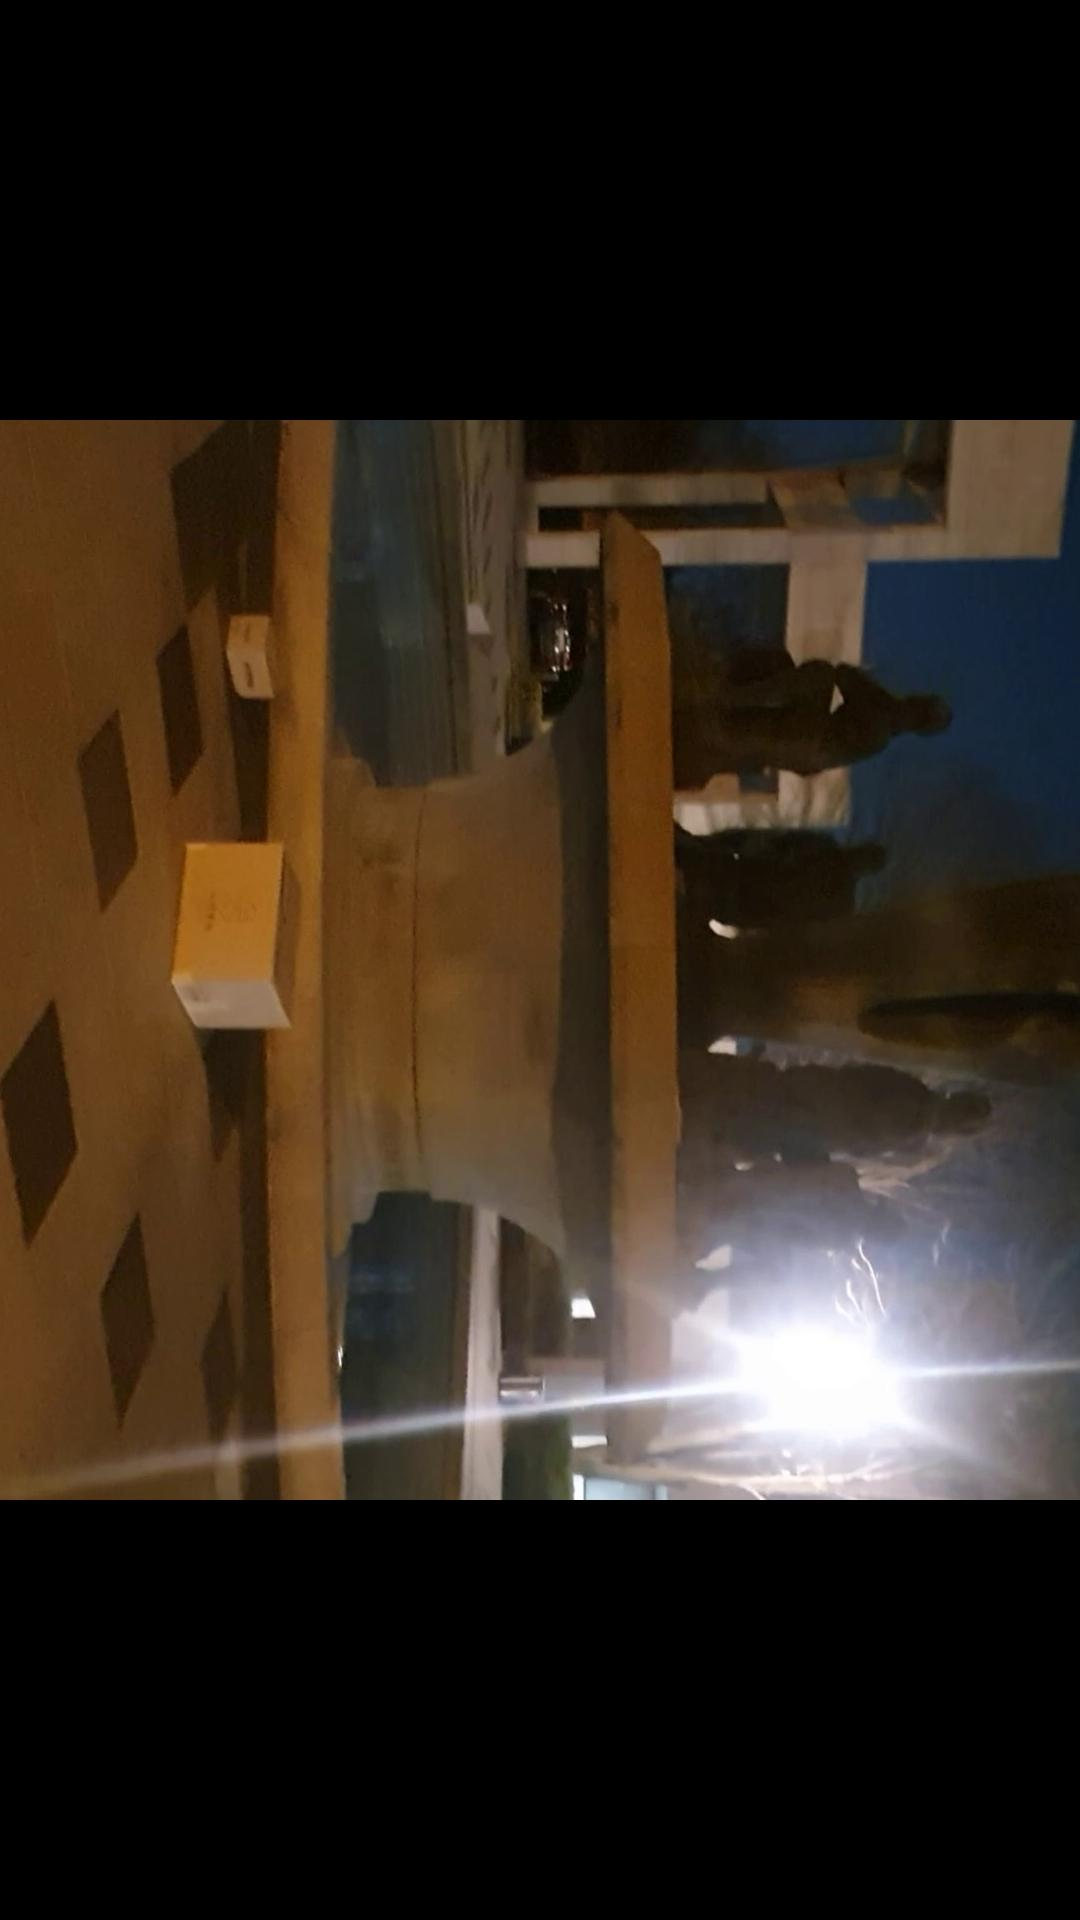Box: (150, 825, 307, 1043), (215, 601, 291, 703)
